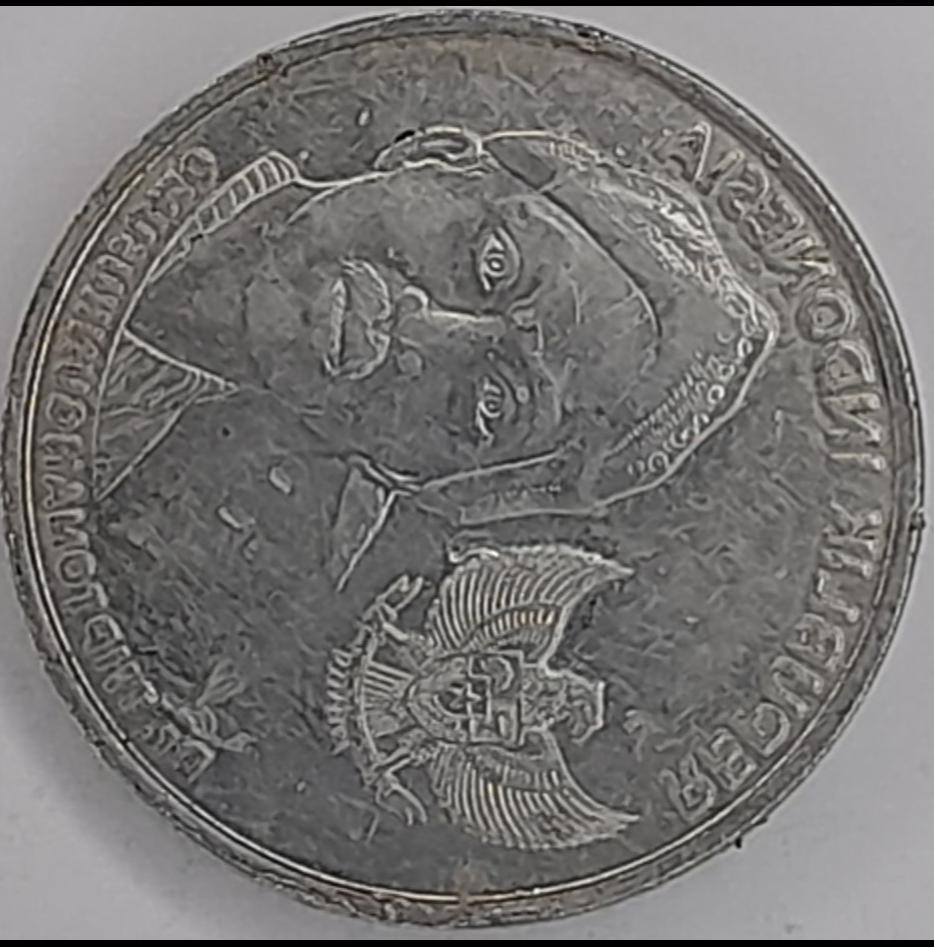coin_200_e2016: (0, 16, 934, 947)
